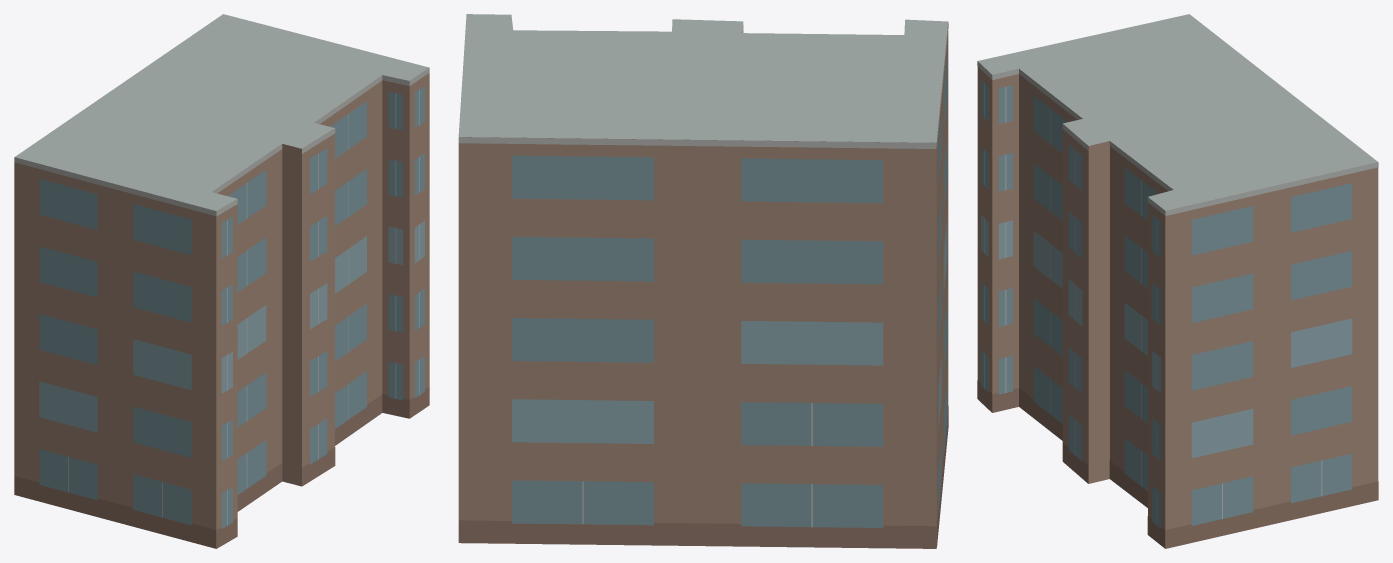
Rendered from survey-upis-32724407.glb.
3 renders of one model, left to right at view 1: azimuth 30°, elevation 25°; view 2: azimuth 150°, elevation 25°; view 3: azimuth 270°, elevation 25°, orthographic. The views are drawn at different scales.
Parts seen in each view (by area): view 1: survey-upis-32724407.tmp; view 2: survey-upis-32724407.tmp; view 3: survey-upis-32724407.tmp.
Boxes of the visible parts, x1,y1,x2,y2 form: survey-upis-32724407.tmp: [14, 14, 429, 548]; survey-upis-32724407.tmp: [458, 14, 948, 548]; survey-upis-32724407.tmp: [977, 14, 1378, 548].
Size of the model in its own units: 19.74 by 15.8 by 16.99.
